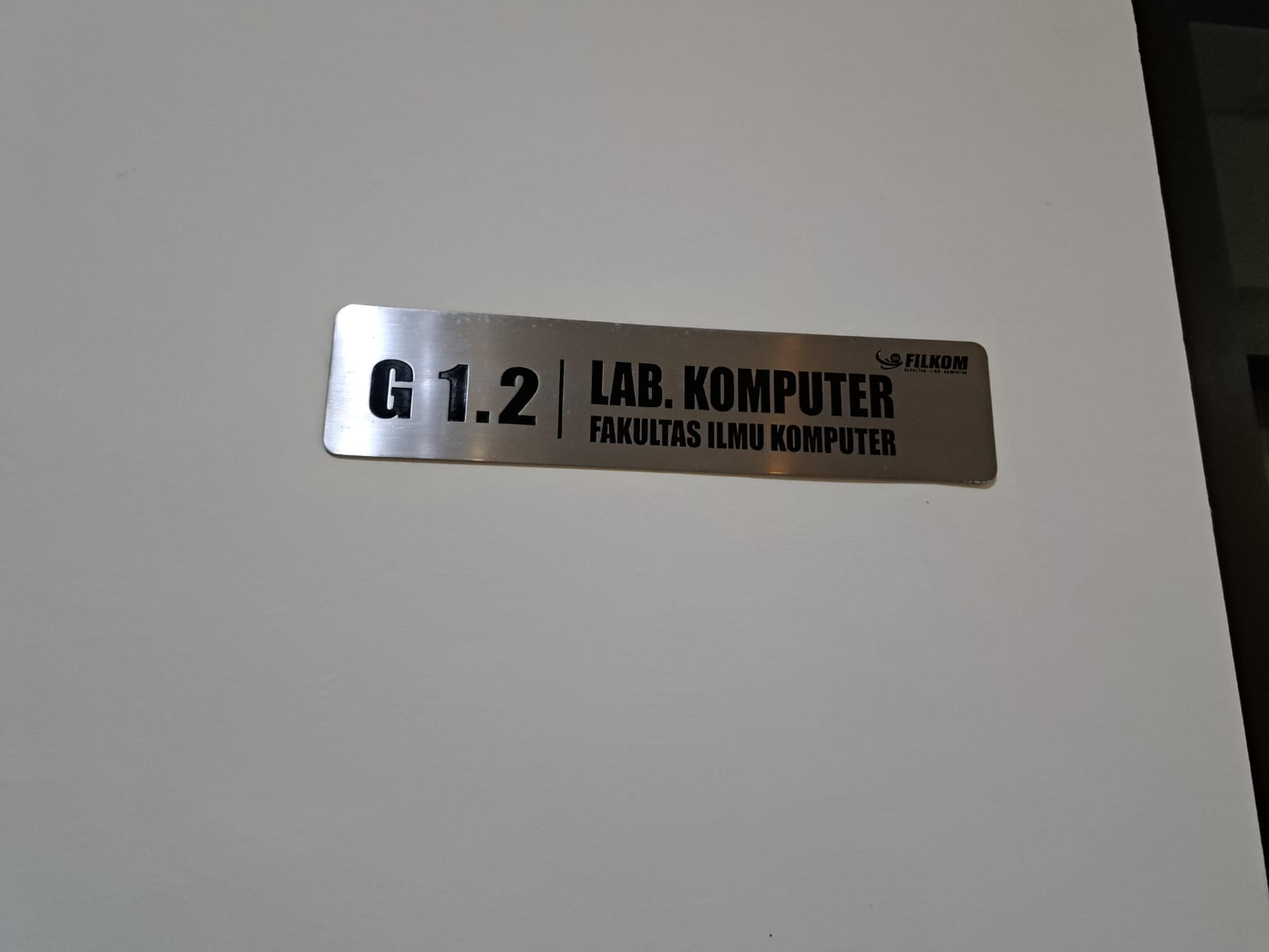ruangan: (301, 290, 1011, 496)
